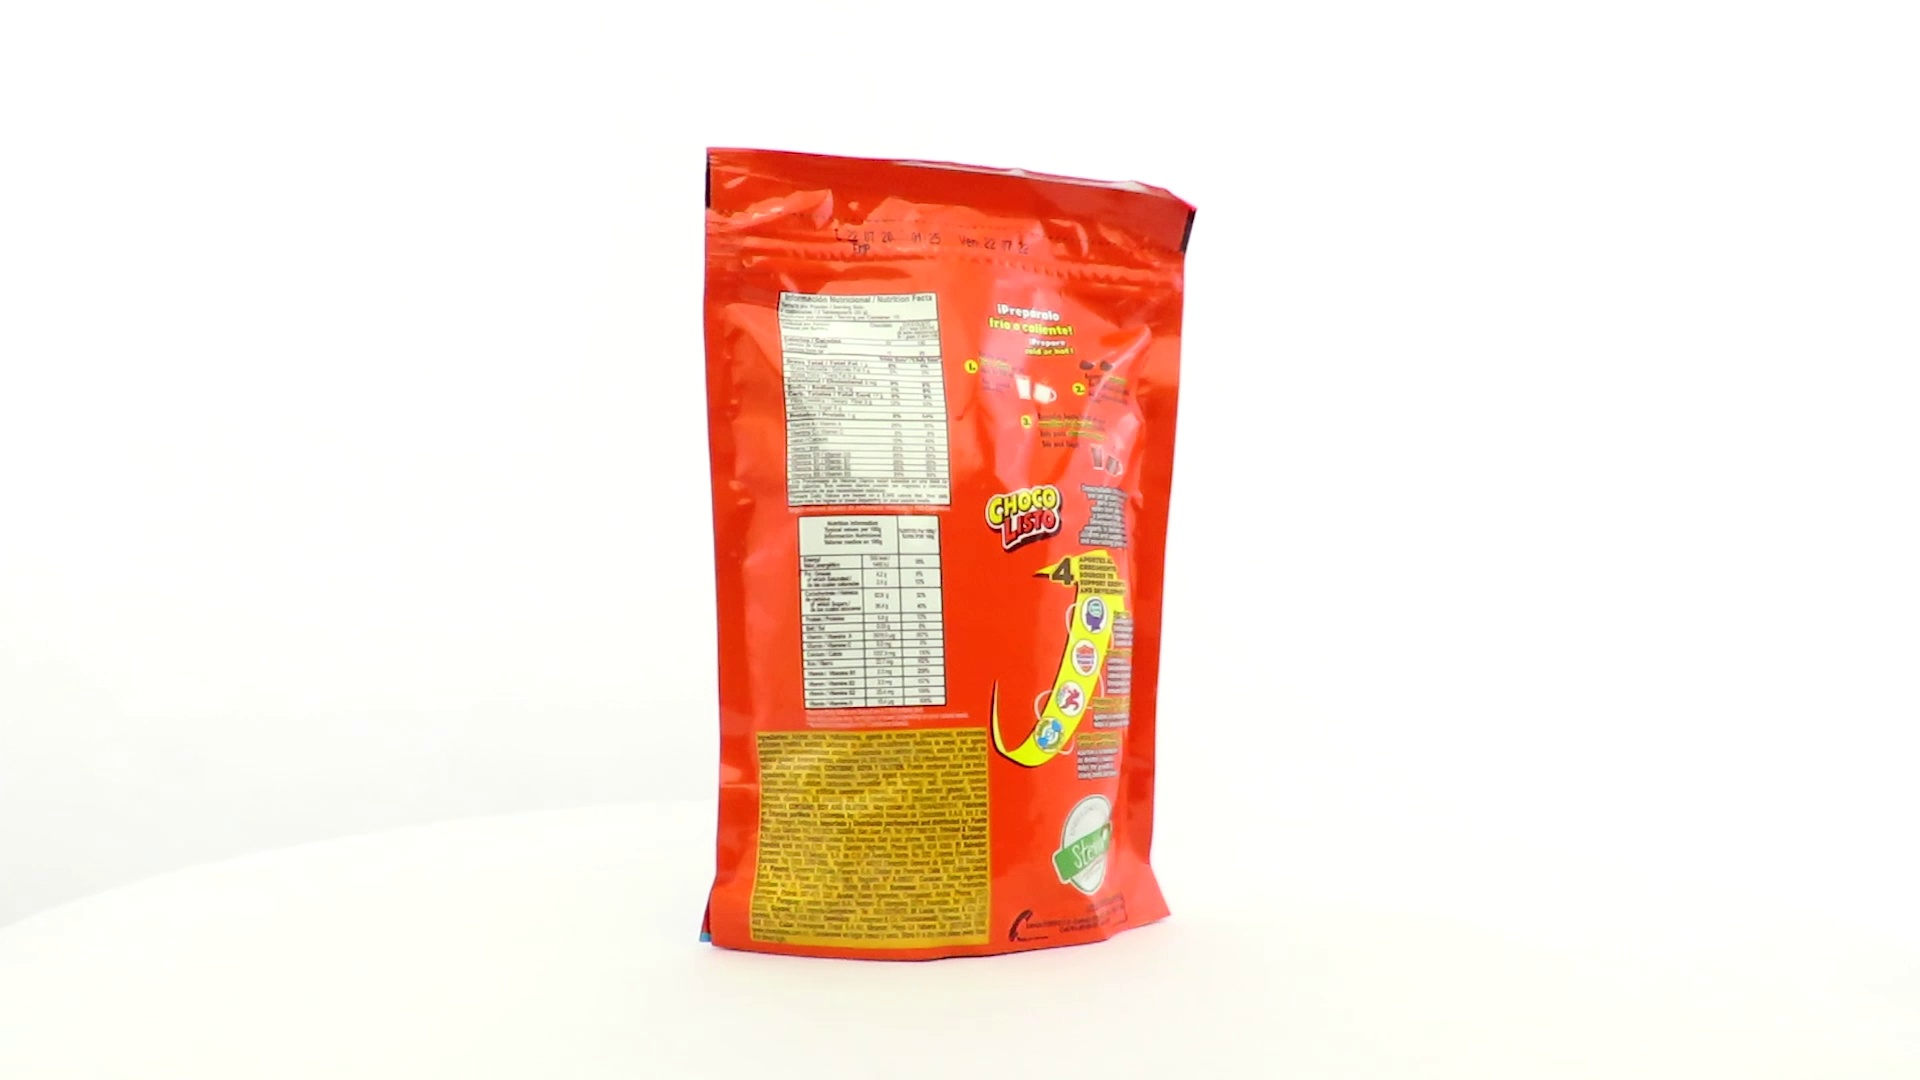COL0170104DYP20000: (694, 142, 1203, 969)
